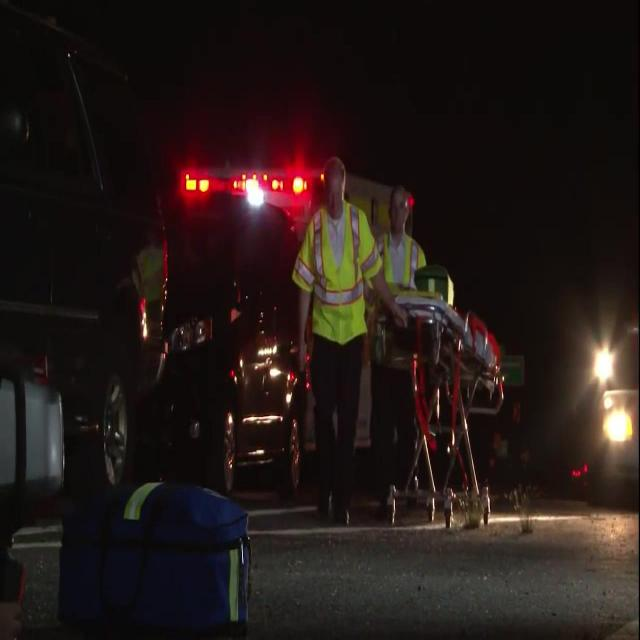Reflective-Jacket: (288, 200, 386, 358), (376, 228, 430, 362)
